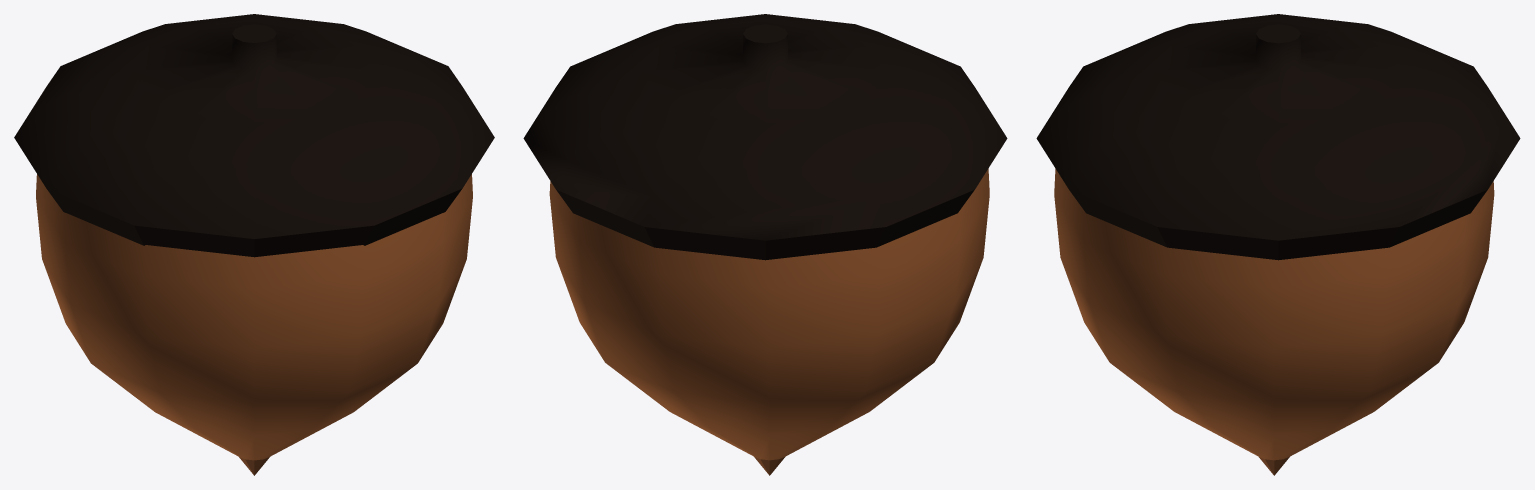
The model's file is acorn.FBX.
3 views of the same model, side by side, from view 1: azimuth 30°, elevation 25°; view 2: azimuth 150°, elevation 25°; view 3: azimuth 270°, elevation 25° (orthographic).
Visible parts, largest first — view 1: top, base; view 2: top, base; view 3: top, base.
Part boxes in pixels (x1=…): top: x1=14, y1=14, x2=494, y2=257; base: x1=36, y1=174, x2=472, y2=475; top: x1=523, y1=14, x2=1007, y2=260; base: x1=549, y1=168, x2=989, y2=475; top: x1=1036, y1=14, x2=1520, y2=260; base: x1=1054, y1=168, x2=1494, y2=475.
Bounding box in the file's own units: 38.1 × 38.49 × 38.1.
